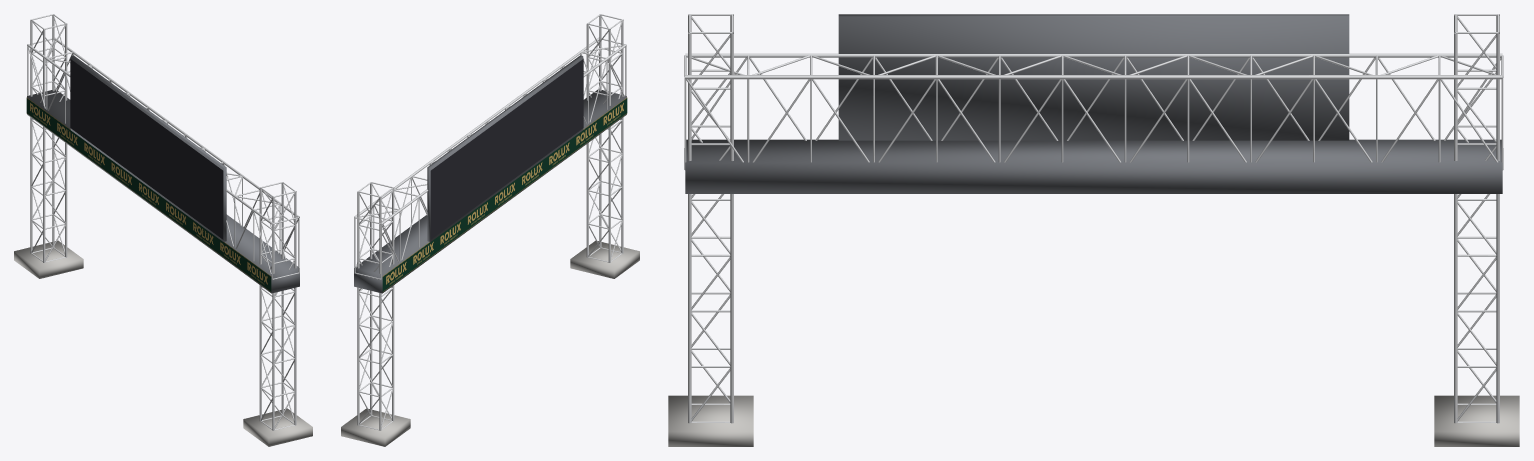
Rendered from timing_gantry.glb.
The picture shows the model from 3 angles, left to right: view 1: azimuth 30°, elevation 25°; view 2: azimuth 150°, elevation 25°; view 3: azimuth 270°, elevation 25°; orthographic projection. The views are drawn at different scales.
Parts seen in each view (by area): view 1: timing_gantry; view 2: timing_gantry; view 3: timing_gantry.
Part boxes in pixels (box(x1,y1,x2,y2)): timing_gantry: box(14, 14, 312, 446); timing_gantry: box(341, 14, 639, 446); timing_gantry: box(668, 14, 1519, 446).
Bounding box in the file's own units: 2 × 10.52 × 20.
5 materials, 1 textured.
